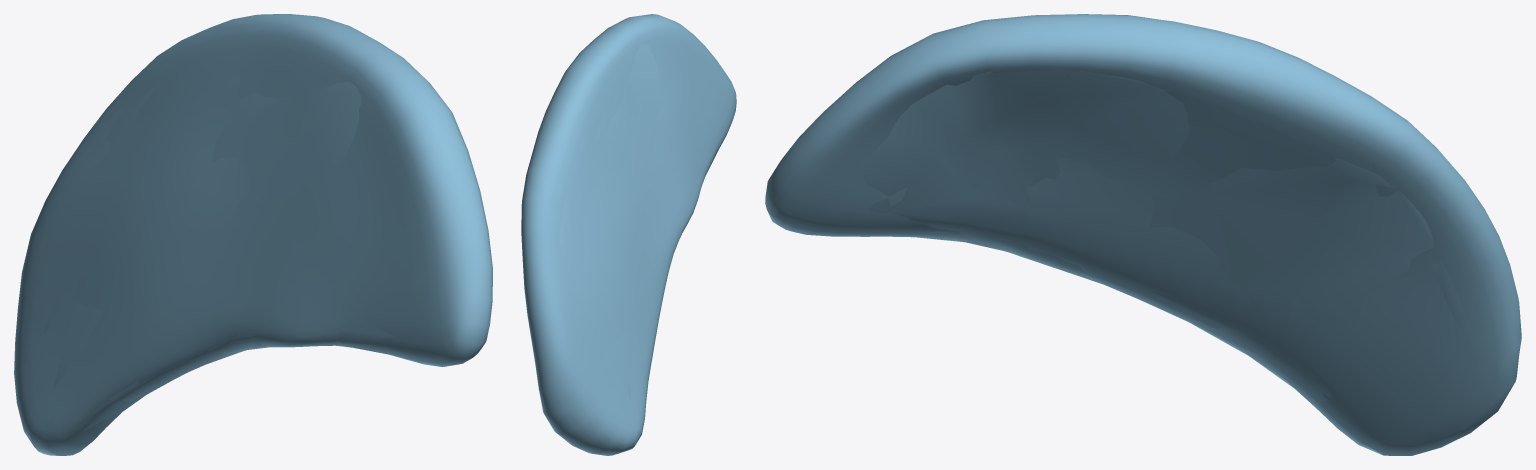
The model's file is Scapular Cartilage R.fbx.
The picture shows the model from 3 angles, left to right: view 1: azimuth 30°, elevation 25°; view 2: azimuth 150°, elevation 25°; view 3: azimuth 270°, elevation 25°; orthographic projection. The views are drawn at different scales.
Visible parts, largest first — view 1: Scapular Cartilage R, Scapular Cartilage R low; view 2: Scapular Cartilage R, Scapular Cartilage R low; view 3: Scapular Cartilage R, Scapular Cartilage R low.
Part boxes in pixels (x1,y1,x2,y2): Scapular Cartilage R: (14, 14, 492, 455); Scapular Cartilage R low: (43, 75, 397, 432); Scapular Cartilage R: (521, 14, 736, 455); Scapular Cartilage R low: (559, 44, 720, 400); Scapular Cartilage R: (765, 14, 1521, 455); Scapular Cartilage R low: (860, 70, 1503, 412).
Size of the model in its own units: 6.72 by 14.57 by 19.45.
